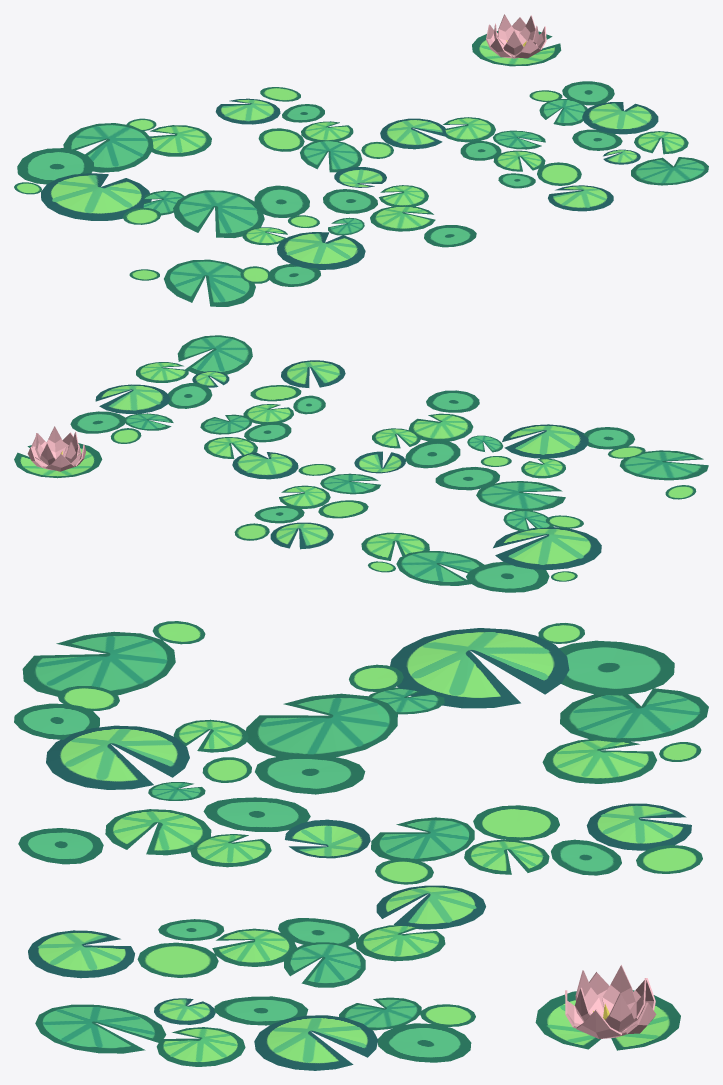
File: word_lilys2.gltf
The picture shows the model from 3 angles, top to bottom: view 1: azimuth 30°, elevation 25°; view 2: azimuth 150°, elevation 25°; view 3: azimuth 270°, elevation 25°; orthographic projection. The views are drawn at different scales.
Parts seen in each view (by area): view 1: Circle.009, Lilypads.009, Lilypads.001, Lilypads.006, Circle.001, Lilypads.019, Circle.006, pink_water_lily_2_open.017, Lilypads.045, Lilypads.018, Circle.004, Lilypads.010 (+27 smaller); view 2: Circle.009, Circle.001, Lilypads.045, Lilypads.001, Lilypads.009, Lilypads.006, Lilypads.019, pink_water_lily_2_open.017, Circle.006, Circle.004, Lilypads.024, Circle.005 (+28 smaller); view 3: Circle.009, Lilypads.009, Lilypads.006, Circle.001, Lilypads.001, Circle.006, Lilypads.019, Lilypads.045, pink_water_lily_2_open.017, Circle.005, Lilypads.018, Circle.003 (+35 smaller).
Boxes of the visible parts, box(x1,y1,x2,y2) form: Circle.009: box(41, 173, 151, 220); Lilypads.009: box(173, 190, 264, 237); Lilypads.001: box(63, 123, 153, 172); Lilypads.006: box(164, 259, 255, 306); Circle.001: box(277, 232, 365, 269); Lilypads.019: box(17, 148, 94, 184); Circle.006: box(582, 102, 658, 134); pink_water_lily_2_open.017: box(486, 14, 546, 58); Lilypads.045: box(631, 157, 708, 185); Lilypads.018: box(150, 125, 211, 156); Circle.004: box(380, 118, 447, 149); Lilypads.010: box(254, 185, 309, 217); Circle.009: box(493, 527, 601, 569); Circle.001: box(502, 424, 588, 458); Lilypads.045: box(177, 335, 252, 376); Lilypads.001: box(396, 550, 484, 585); Lilypads.009: box(476, 481, 565, 511); Lilypads.006: box(620, 450, 708, 480); Lilypads.019: box(466, 562, 549, 592); pink_water_lily_2_open.017: box(27, 426, 85, 471); Circle.006: box(95, 384, 170, 413); Circle.004: box(232, 452, 298, 479); Lilypads.024: box(408, 413, 473, 441); Circle.005: box(281, 360, 345, 387); Circle.009: box(390, 628, 569, 708); Lilypads.009: box(246, 693, 397, 756); Lilypads.006: box(22, 631, 175, 696); Circle.001: box(46, 725, 189, 789); Lilypads.001: box(560, 688, 708, 742); Circle.006: box(254, 1015, 378, 1070); Lilypads.019: box(559, 640, 674, 695); Lilypads.045: box(35, 1004, 166, 1053); pink_water_lily_2_open.017: box(565, 965, 656, 1038); Circle.005: box(28, 930, 134, 978); Lilypads.018: box(542, 739, 656, 783); Circle.003: box(586, 803, 691, 850).
Bounding box in the file's own units: 2.99 × 0.1928 × 1.97.
2 materials, 2 textured.
